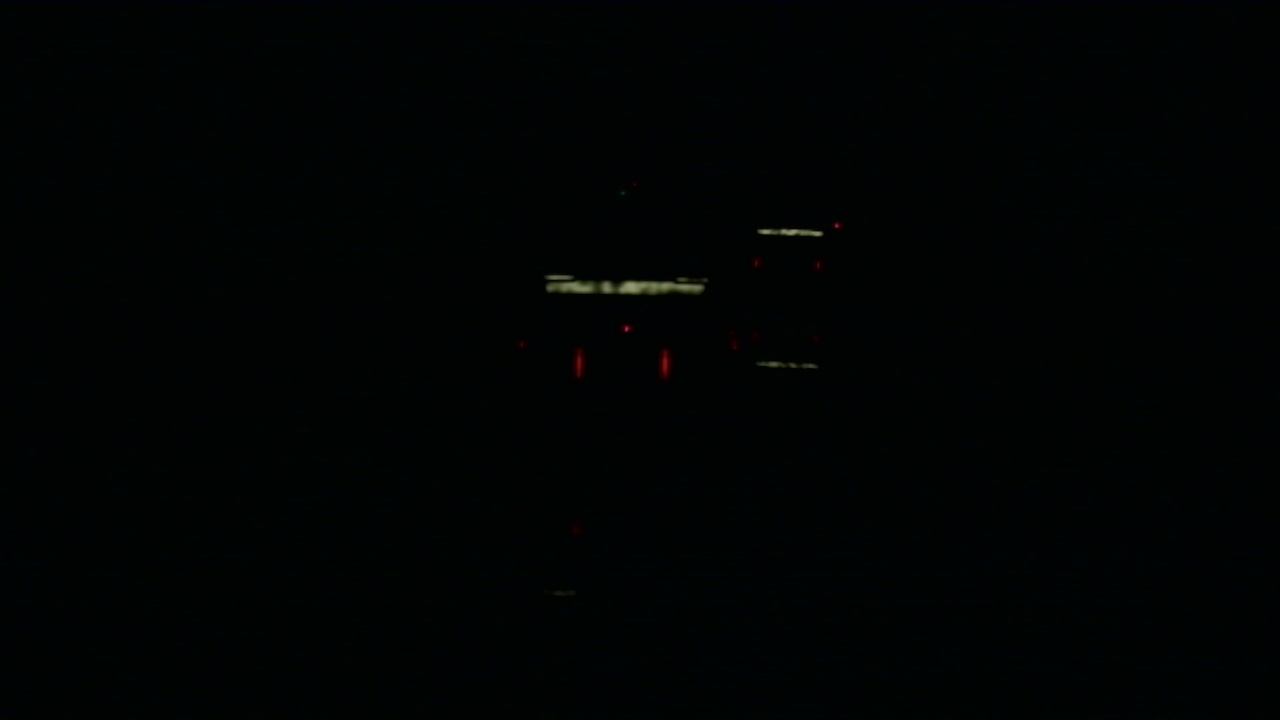lamp: (656, 346, 669, 379), (575, 346, 584, 378)
pair1: (575, 348, 669, 379)
